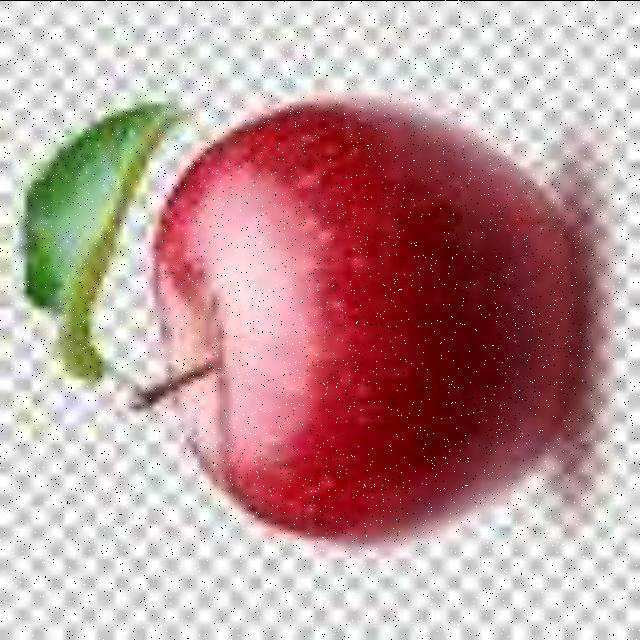HEALTHY: (125, 81, 584, 548)
